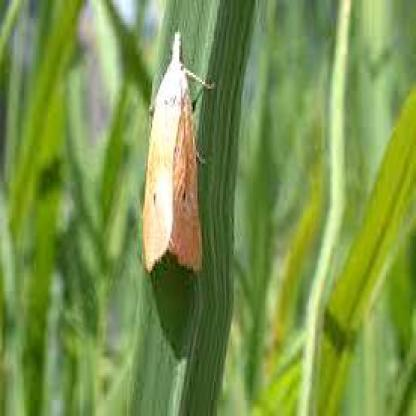stem-borer: (140, 28, 218, 276)
